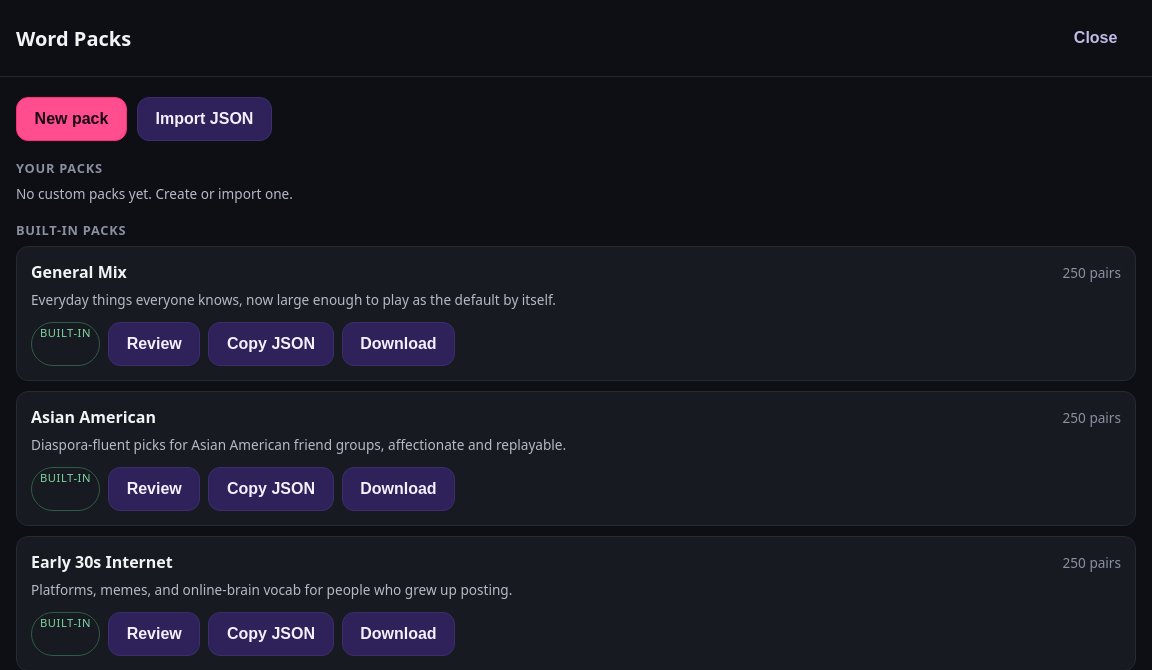
Test: PackEditor delete › deletes a custom pack after confirmation
The width and height of the screenshot is (1152, 670).
Note: Create one first.
Click the button "New pack" at (72, 119), box [16,97,127,141]
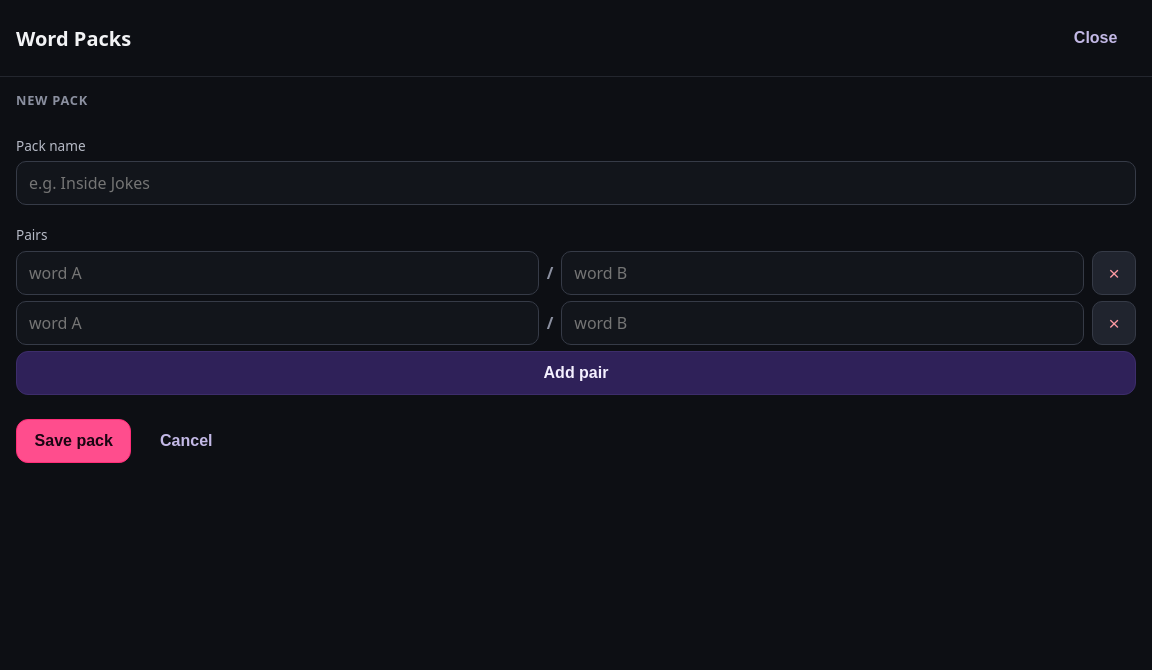
Type "Temp Pack" into the field labelled "Pack name" at (576, 183), box [16,161,1136,205]
Type "x" into the field named "Pair 1 word A" at (277, 273), box [16,251,539,295]
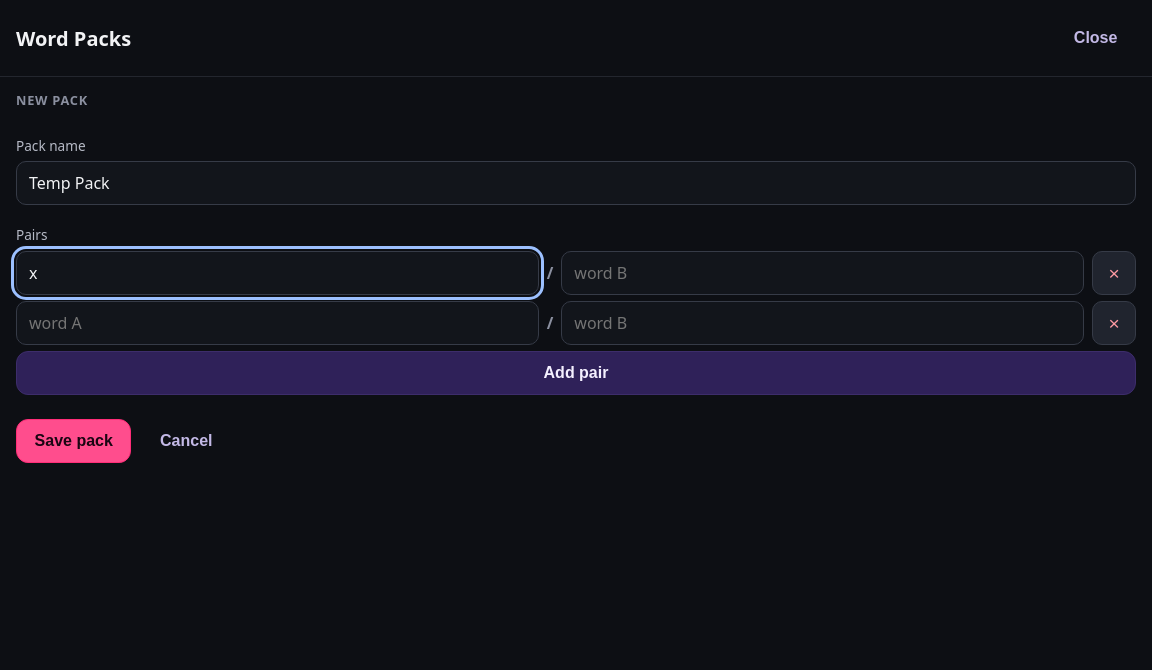
Type "y" into the field named "Pair 1 word B" at (823, 273), box [561,251,1084,295]
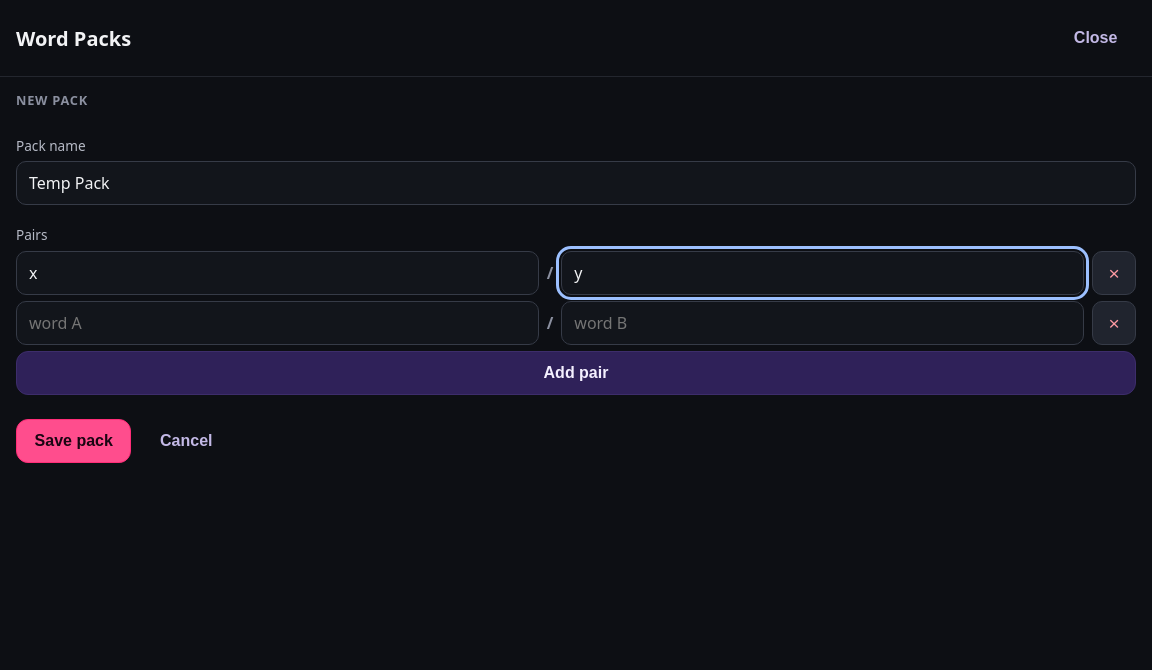
Click the button "Save pack" at (74, 441), box [16,419,132,463]
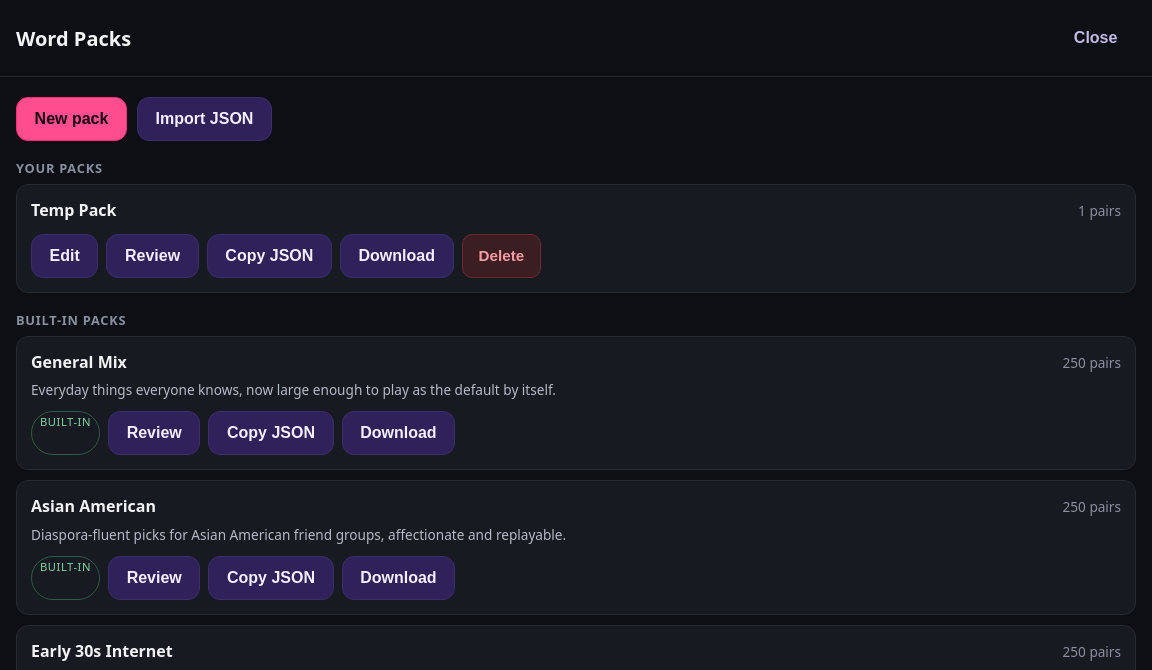
Check: the text "Temp Pack" is shown, box [31,199,116,222]
Click the button "Delete" at (501, 256), box [462,234,541,278]
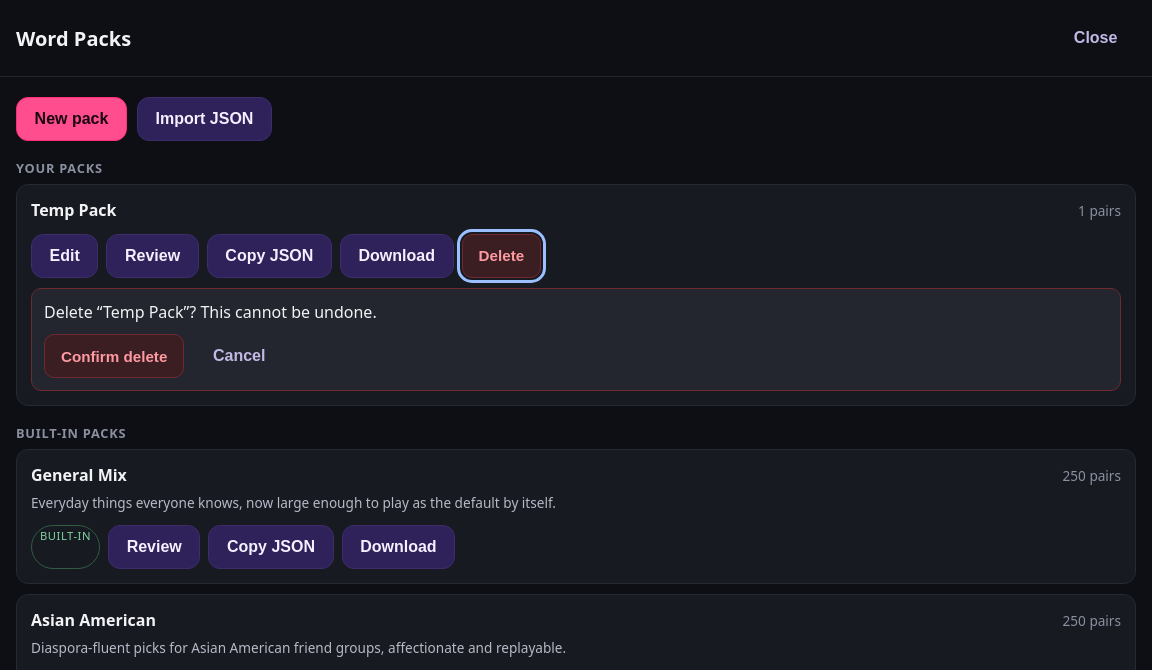
Click the button "Confirm delete" at (114, 356), box [44,334,184,378]
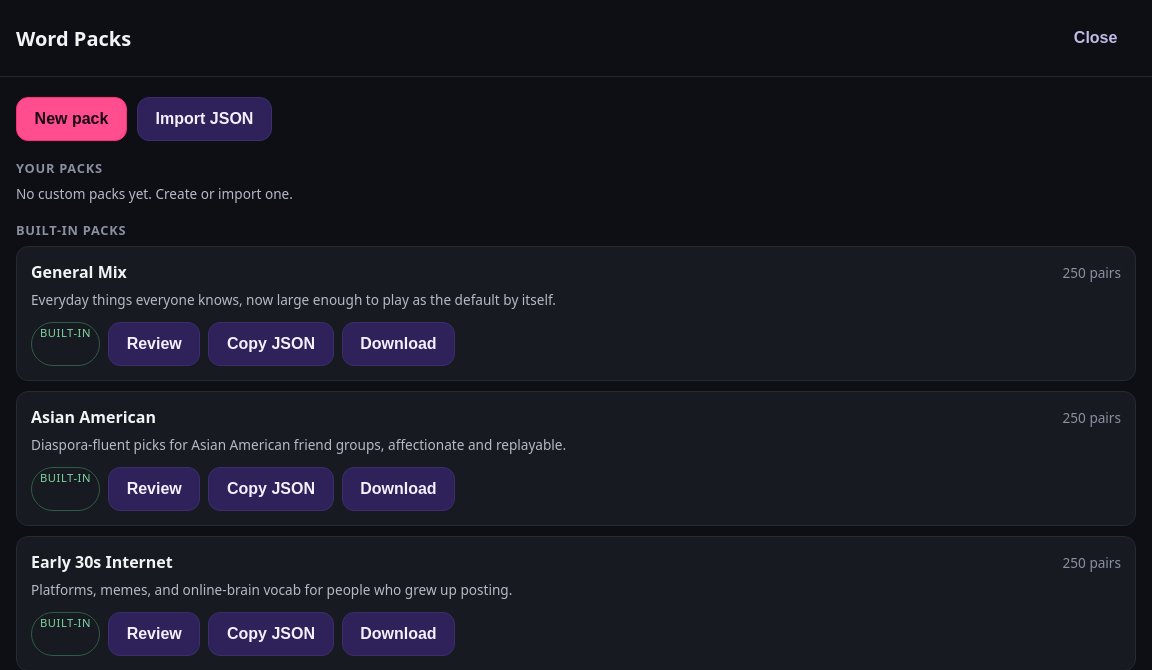
Check: the text "Temp Pack" is gone
